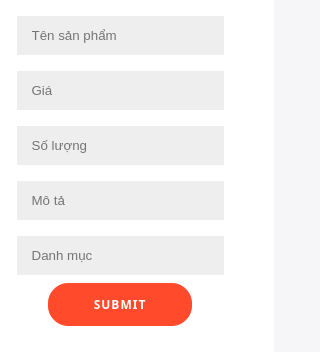
it: ProductForm Component - Validation › TC2: Hiển thị lỗi khi tên sản phẩm quá ngắn
Type "A" into the field with placeholder "Tên sản phẩm".
click(120, 36); type("A")  # box left=16, top=16, right=224, bottom=55
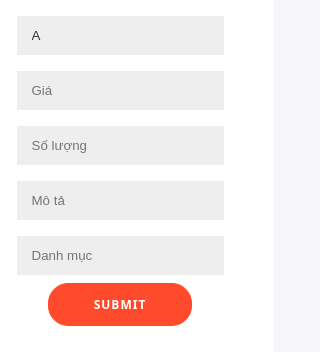
Type "100" into the field with placeholder "Giá".
click(120, 90); type("100")  # box left=16, top=71, right=224, bottom=110
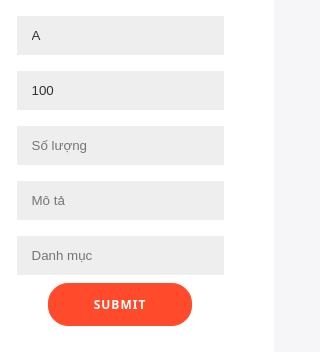
Type "5" into the field with placeholder "Số lượng".
click(120, 146); type("5")  # box left=16, top=126, right=224, bottom=165
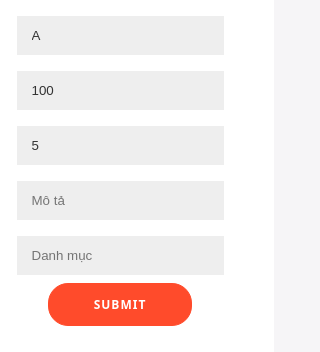
Type "Mô tả hợp lệ" into the field with placeholder "Mô tả".
click(120, 200); type("Mô tả hợp lệ")  # box left=16, top=181, right=224, bottom=220
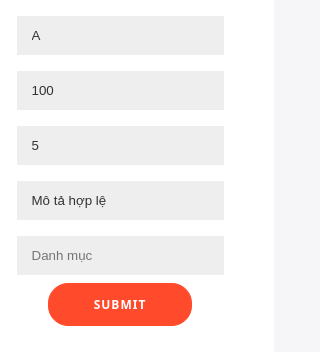
Type "Drink" into the field with placeholder "Danh mục".
click(120, 256); type("Drink")  # box left=16, top=236, right=224, bottom=275
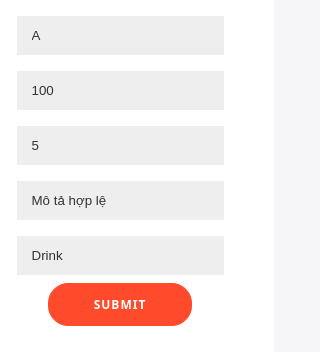
Click the button "Submit".
click(120, 304)  # box left=48, top=283, right=192, bottom=326
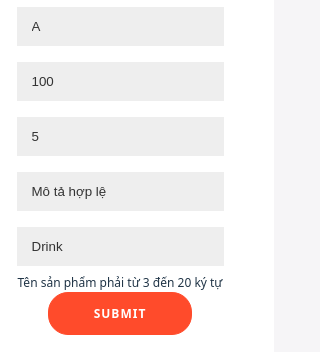
Check: the text "Tên sản phẩm phải từ 3 đến 20 ký tự" is shown, box left=18, top=274, right=222, bottom=292
